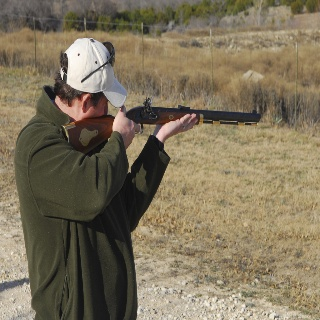shotgun: (61, 96, 263, 159)
